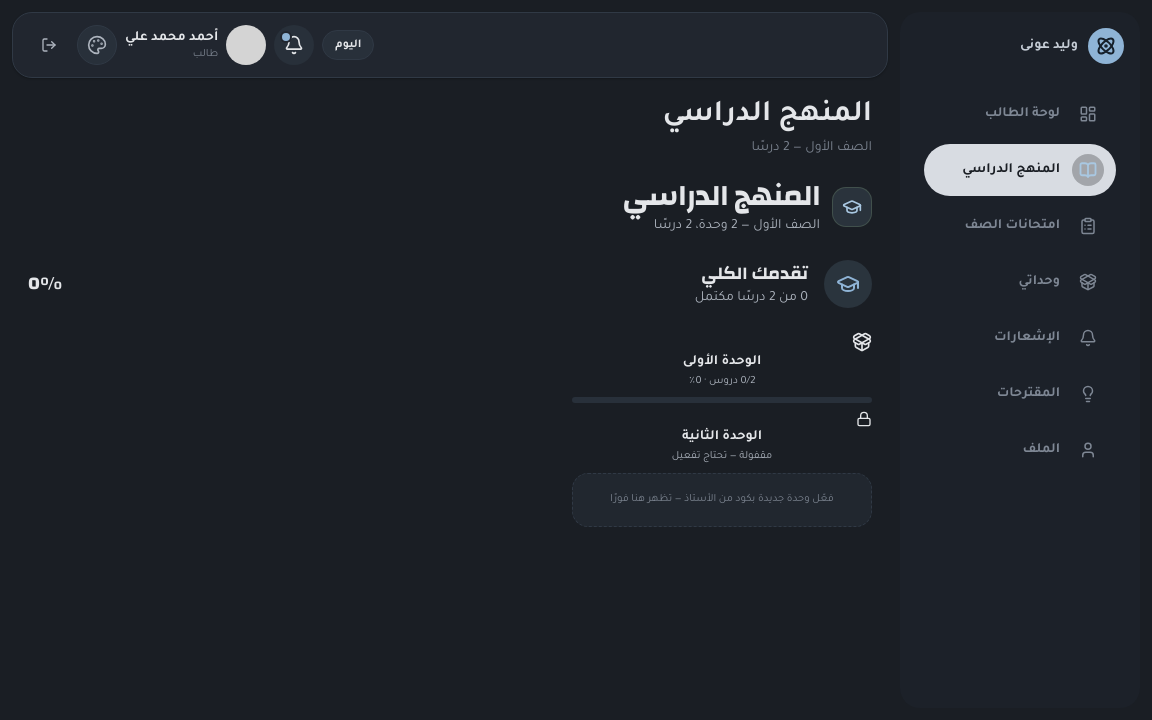
it: StudentCurriculumPage › shows only the selected unit lessons in the detail panel
Click the tab "الوحدة الثانية مقفولة — تحتاج تفعيل" at [722, 438], box [572,410,872,465]
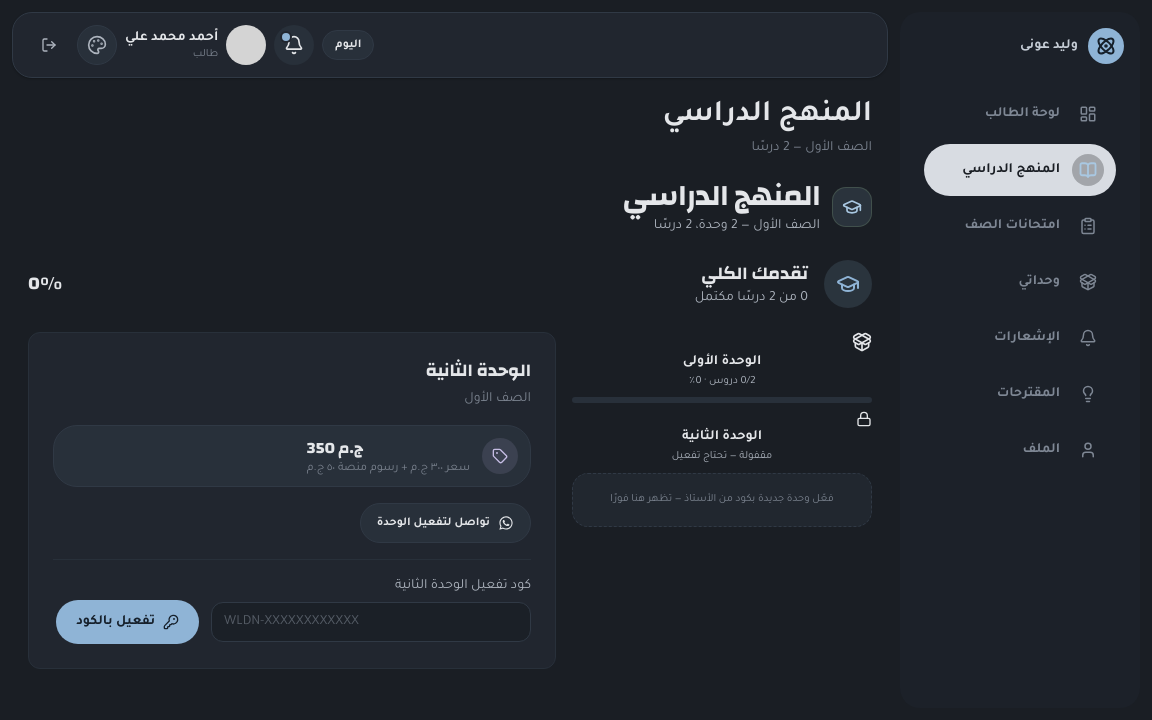
Expected: the element with test id "unit-detail-unit-2" is shown, [28,332,556,669]
